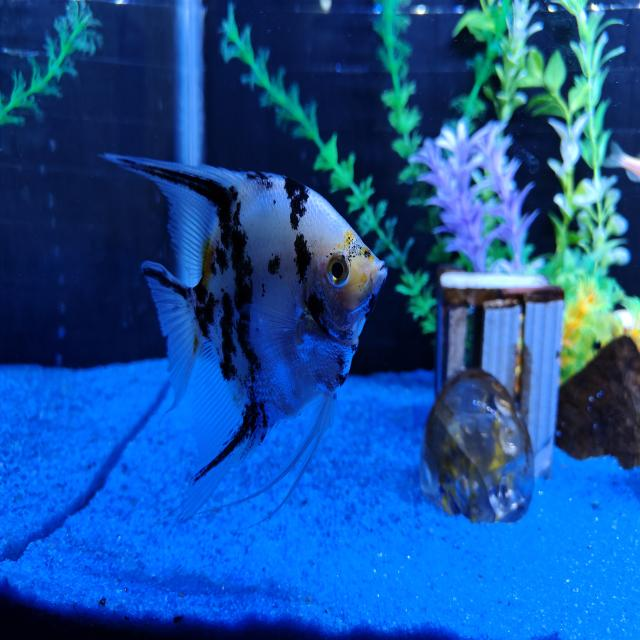Fish: (104, 155, 387, 517), (603, 143, 639, 182), (0, 48, 39, 58)
